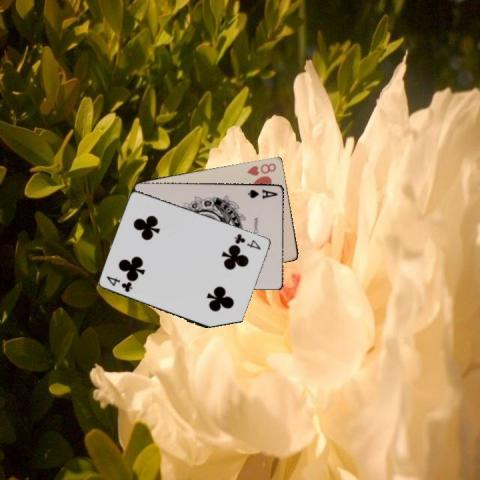4c: (231, 231, 263, 251), (103, 273, 134, 293)
8h: (244, 160, 278, 177)
As: (245, 187, 279, 200)
